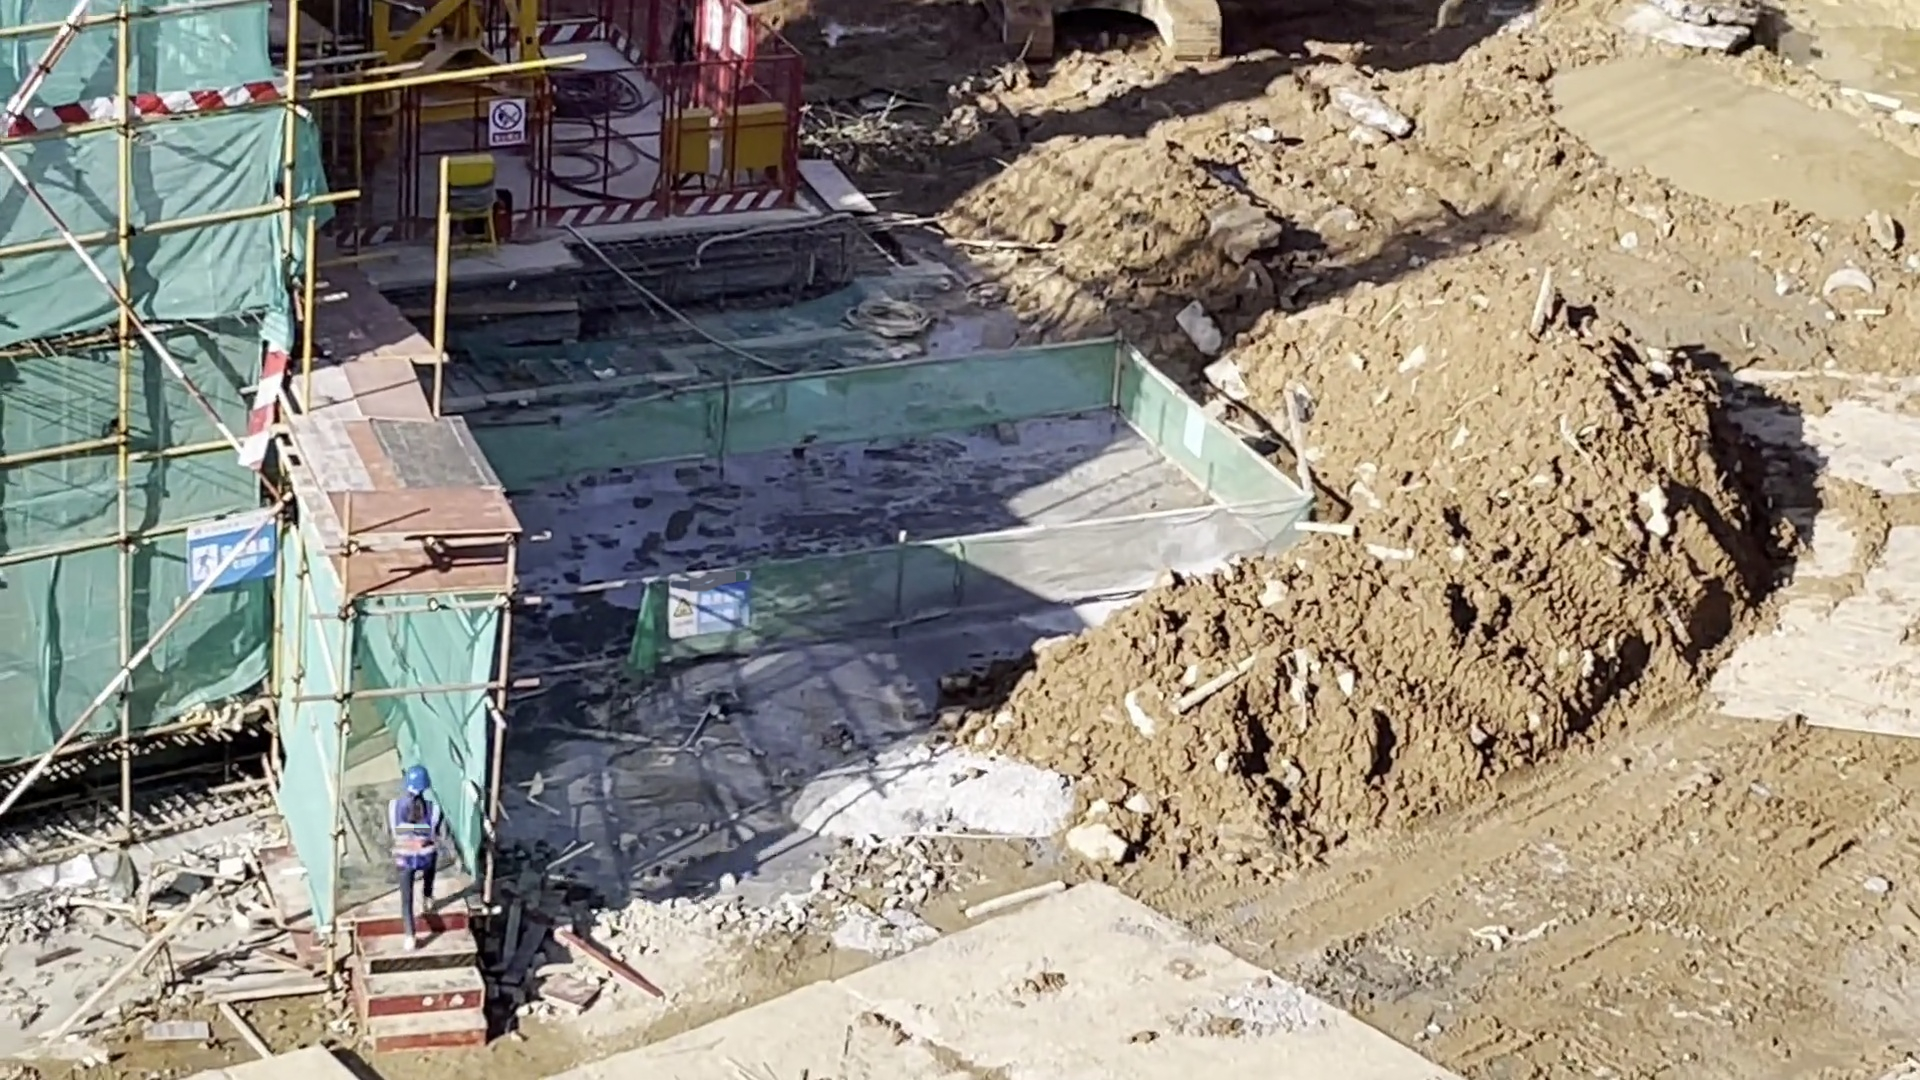ebox: (728, 108, 787, 177), (661, 111, 709, 169)
helmet: (398, 768, 432, 794)
person: (372, 764, 459, 971)
slogan: (192, 527, 280, 587), (672, 586, 749, 627), (493, 105, 528, 146)
vest: (393, 807, 442, 868)
